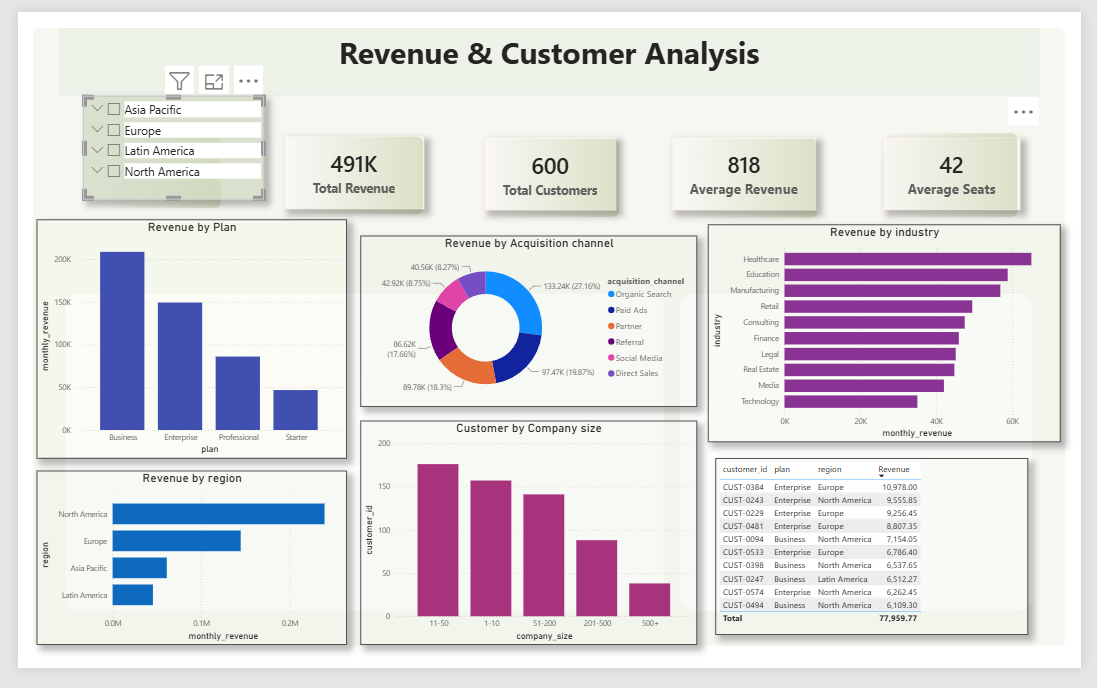

The dashboard page shown, as its layout file describes it:
{"tool":"powerbi","page":{"name":" Page 2","canvas":[1700,1049],"ordinal":1},"visuals":[{"type":"cardVisual","fields":{"Data":["Subscriptions.Total Customers"]},"box":[745,200,211.2,117.5],"z":0},{"type":"cardVisual","fields":{"Data":["Subscriptions.Total Revenue"]},"box":[425,197.5,223.8,117.5],"z":1000},{"type":"cardVisual","fields":{"Data":["Subscriptions.Average Revenue"]},"box":[1045.1,200,231.4,117.6],"z":2000},{"type":"cardVisual","fields":{"Data":["Subscriptions.Average Seats"]},"box":[1383.3,200,220,116.7],"z":3000},{"type":"textbox","box":[66.8,26.4,1567.9,107.2],"z":4000},{"type":"clusteredColumnChart","title":"Revenue by Plan","fields":{"Category":["Subscriptions.plan"],"Y":["Sum(Subscriptions.monthly_revenue)"]},"box":[30,332,496,382],"z":5000},{"type":"barChart","title":"Revenue by region","fields":{"Y":["Sum(Subscriptions.monthly_revenue)"],"Category":["Subscriptions.region"]},"box":[30,734,496,278],"z":6000},{"type":"barChart","title":"Revenue by industry","fields":{"Y":["Sum(Subscriptions.monthly_revenue)"],"Category":["Subscriptions.industry"]},"box":[1104,340.8,563.8,348],"z":7000},{"type":"columnChart","title":"Customer by Company size","fields":{"Category":["Subscriptions.company_size"],"Y":["CountNonNull(Subscriptions.customer_id)"]},"box":[548,654,538,358],"z":8000},{"type":"donutChart","title":"Revenue by Acquisition channel","fields":{"Category":["Subscriptions.acquisition_channel"],"Y":["Sum(Subscriptions.monthly_revenue)"]},"box":[547.5,357.1,538.4,273.7],"z":9000},{"type":"tableEx","fields":{"Values":["Subscriptions.customer_id","Subscriptions.plan","Subscriptions.region","Sum(Subscriptions.monthly_revenue)"]},"box":[1116.7,714.2,500.3,282.8],"z":10000},{"type":"slicer","fields":{"Values":["Subscriptions.region","Subscriptions.plan","Subscriptions.industry","Subscriptions.company_size"]},"box":[103.3,134.1,290,166.8],"z":11000}]}

Visuals, with their boxes in screenshot pixels (x1, y1, x2, y2), scaled from the page's 1700x1049 canvas onto the 1097x688 screenshot:
cardVisual - Subscriptions.Total Customers: x1=481 y1=131 x2=617 y2=208
cardVisual - Subscriptions.Total Revenue: x1=274 y1=130 x2=419 y2=207
cardVisual - Subscriptions.Average Revenue: x1=674 y1=131 x2=824 y2=208
cardVisual - Subscriptions.Average Seats: x1=893 y1=131 x2=1035 y2=208
textbox: x1=43 y1=17 x2=1055 y2=88
"Revenue by Plan" clusteredColumnChart: x1=19 y1=218 x2=339 y2=468
"Revenue by region" barChart: x1=19 y1=481 x2=339 y2=664
"Revenue by industry" barChart: x1=712 y1=224 x2=1076 y2=452
"Customer by Company size" columnChart: x1=354 y1=429 x2=701 y2=664
"Revenue by Acquisition channel" donutChart: x1=353 y1=234 x2=701 y2=414
tableEx - Subscriptions.customer_id x Subscriptions.plan: x1=721 y1=468 x2=1043 y2=654
slicer - Subscriptions.region x Subscriptions.plan: x1=67 y1=88 x2=254 y2=197
